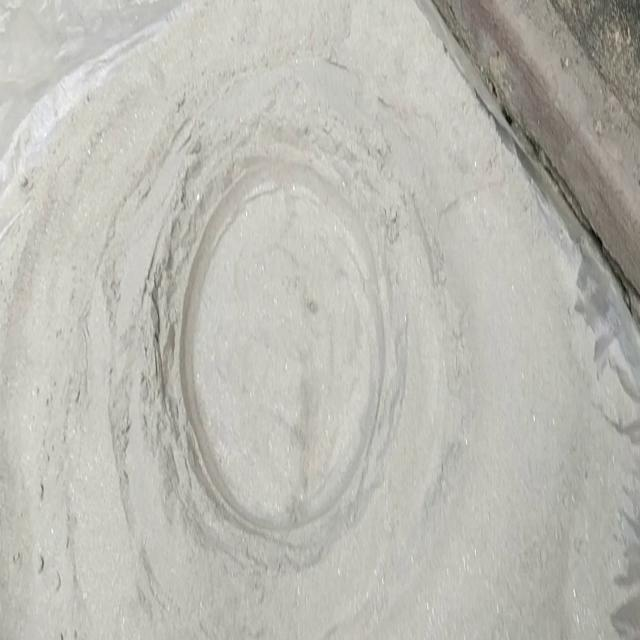C40: (181, 162, 382, 531)
